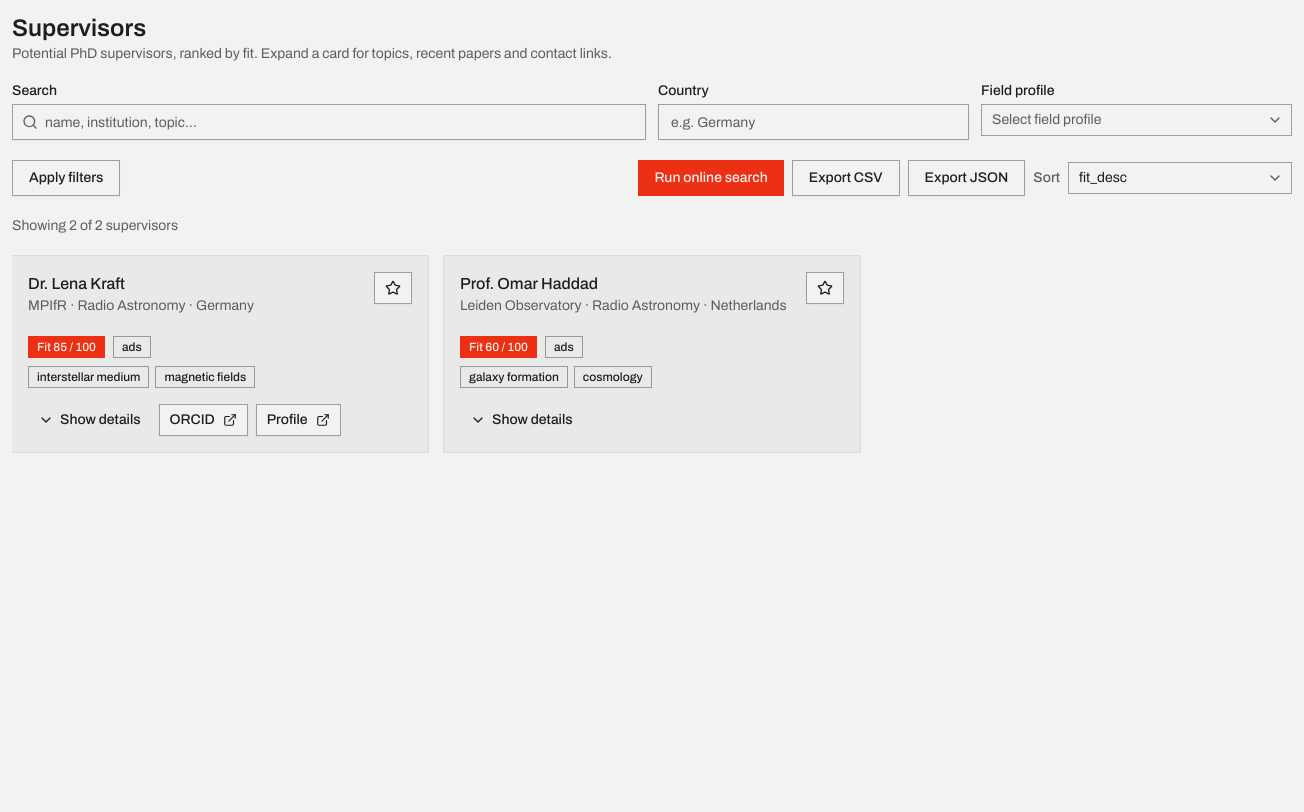
SupervisorsPage › expands a card to show methods and recent papers
Expected: the text "Dr. Lena Kraft" is shown, [28,275,125,292]
Click the button "Show details" next to "ORCID" at (89, 420), box [28,404,151,436]
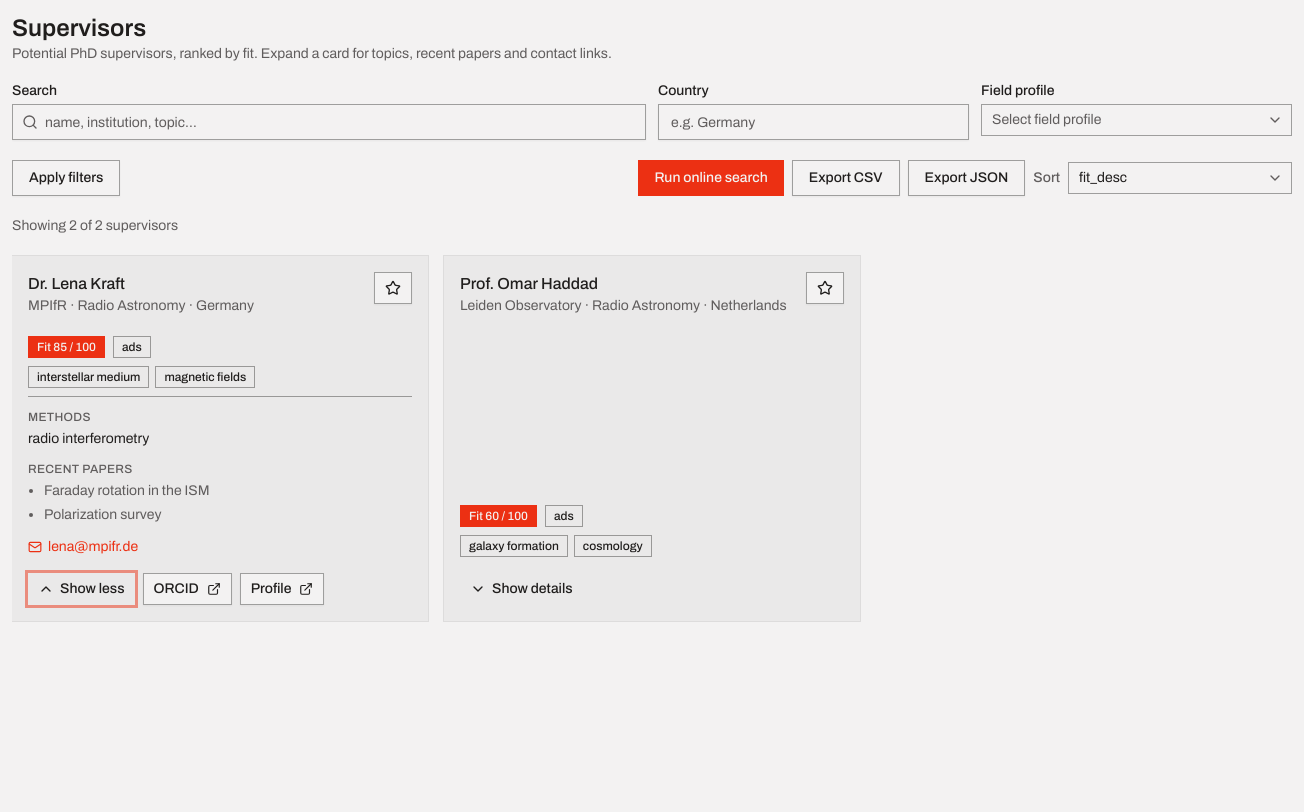
Result: the text "radio interferometry" is shown at [28,431,149,446]
Result: the list item "Faraday rotation in the ISM" is shown at [44,483,210,498]
